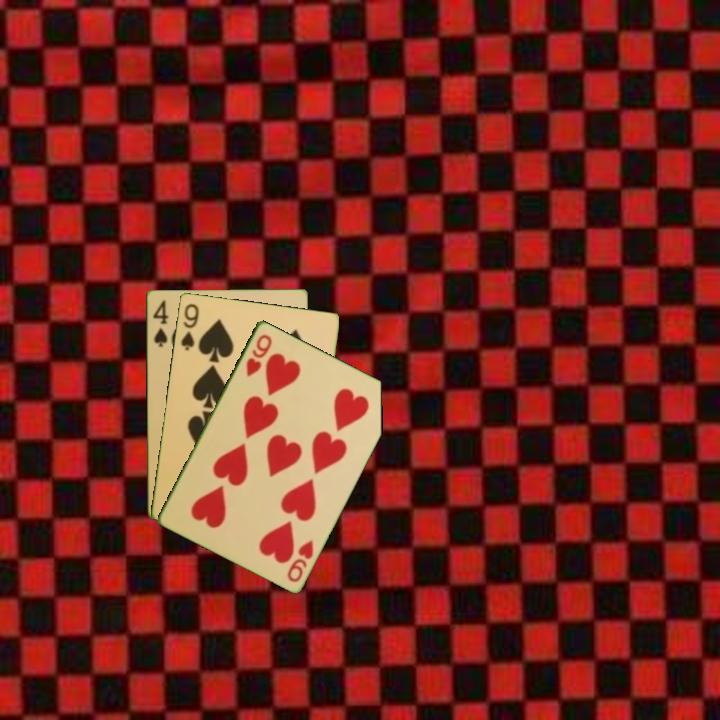4s: (149, 296, 171, 350)
9h: (242, 330, 275, 380), (284, 536, 316, 585)
9s: (177, 300, 202, 353)
